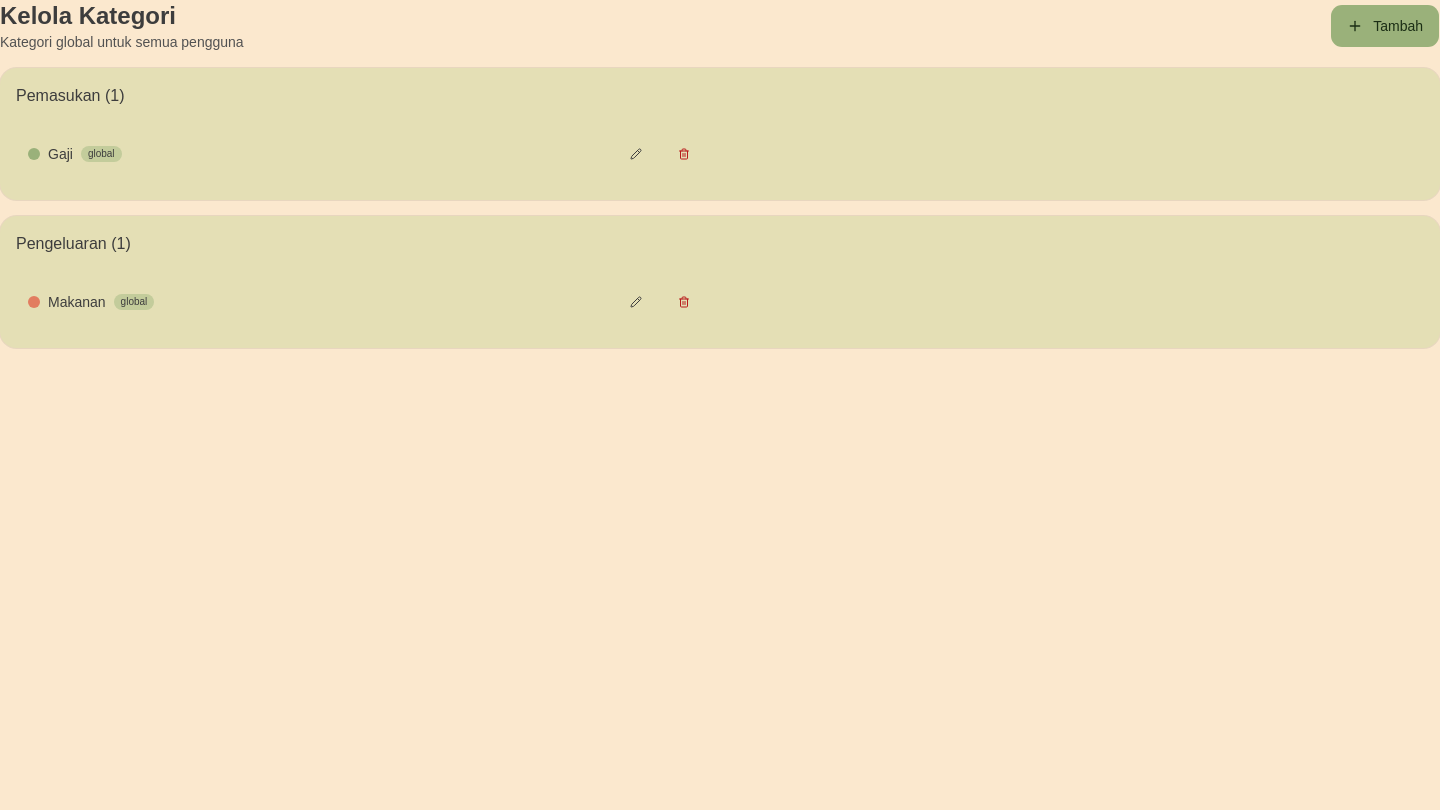
Test: AdminCategoriesPage › renders dialog form with full-width select and 44px color picker swatch
Note: Open Tambah Kategori dialog
Click the button "Tambah": (1385, 26) [1330,4,1439,48]
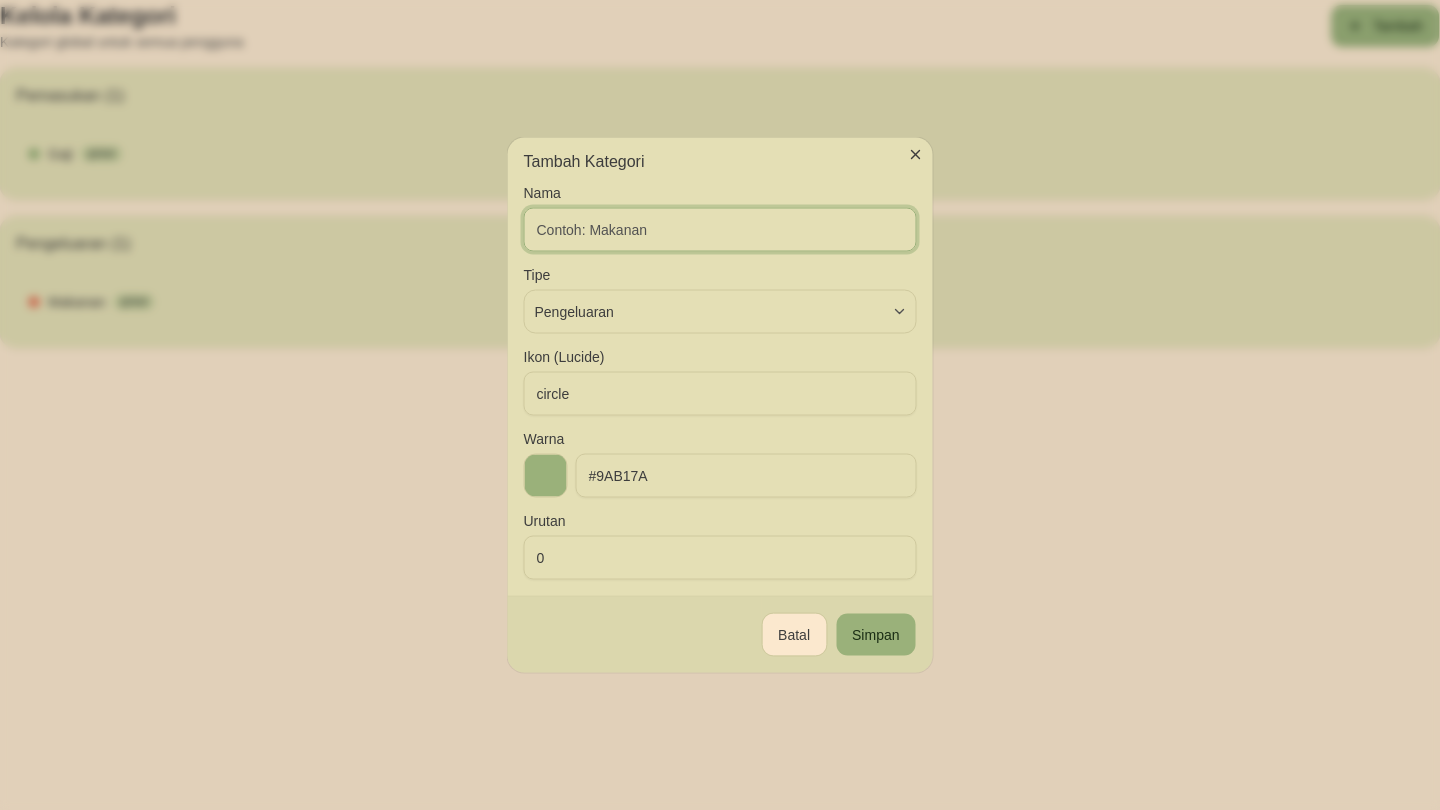
Expected: the heading "Tambah Kategori" is shown, [524,152,644,170]
Expected: the dropdown shows "Pengeluaran", [524,290,916,334]
Expected: the colour field is shown, [524,454,568,498]
